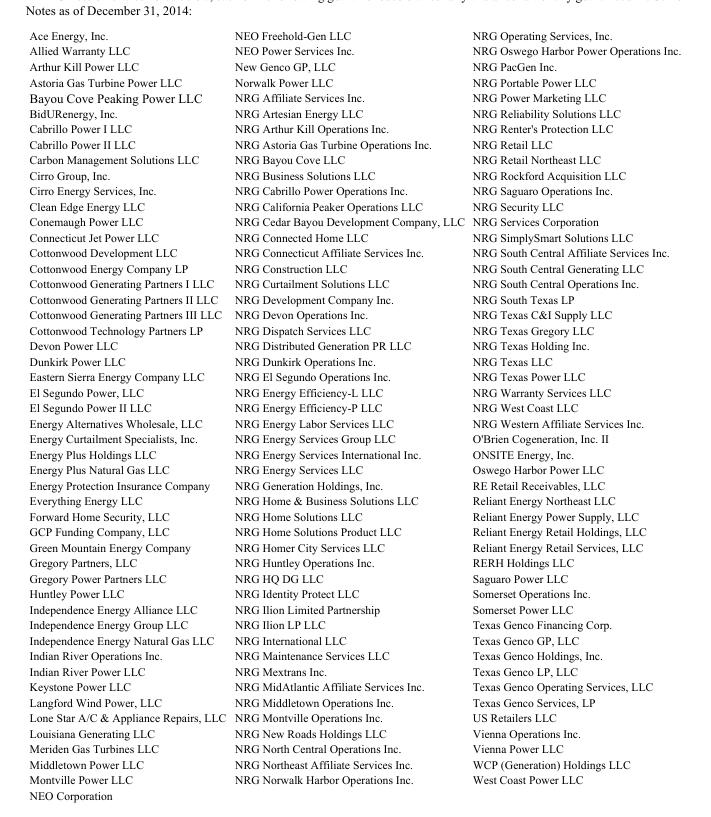table: (28, 28, 680, 785)
table column: (229, 28, 467, 785), (467, 28, 680, 785), (28, 28, 229, 785)
table column header: (28, 28, 680, 42)
table row: (28, 42, 680, 58), (28, 73, 680, 89), (28, 89, 680, 105), (28, 135, 680, 151), (28, 166, 680, 182), (28, 197, 680, 213), (28, 228, 680, 244), (28, 259, 680, 275), (28, 290, 680, 306), (28, 321, 680, 337), (28, 352, 680, 368), (28, 383, 680, 399), (28, 414, 680, 430), (28, 445, 680, 461), (28, 476, 680, 492), (28, 507, 680, 523), (28, 538, 680, 554), (28, 569, 680, 585), (28, 600, 680, 616), (28, 631, 680, 647), (28, 662, 680, 678), (28, 693, 680, 709), (28, 724, 680, 740), (28, 755, 680, 771), (28, 58, 680, 73), (28, 105, 680, 120), (28, 120, 680, 135), (28, 151, 680, 166), (28, 182, 680, 197), (28, 213, 680, 228), (28, 244, 680, 259), (28, 275, 680, 290), (28, 306, 680, 321), (28, 337, 680, 352), (28, 368, 680, 383), (28, 399, 680, 414), (28, 430, 680, 445), (28, 461, 680, 476), (28, 492, 680, 507), (28, 523, 680, 538), (28, 554, 680, 569), (28, 585, 680, 600), (28, 616, 680, 631), (28, 647, 680, 662), (28, 678, 680, 693), (28, 709, 680, 724), (28, 740, 680, 755), (28, 28, 680, 42), (28, 771, 680, 785)
